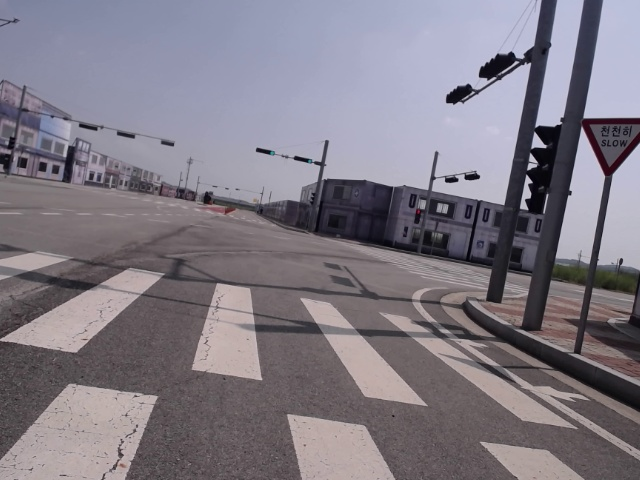straight_green_4: (255, 147, 275, 156), (295, 156, 313, 163)
